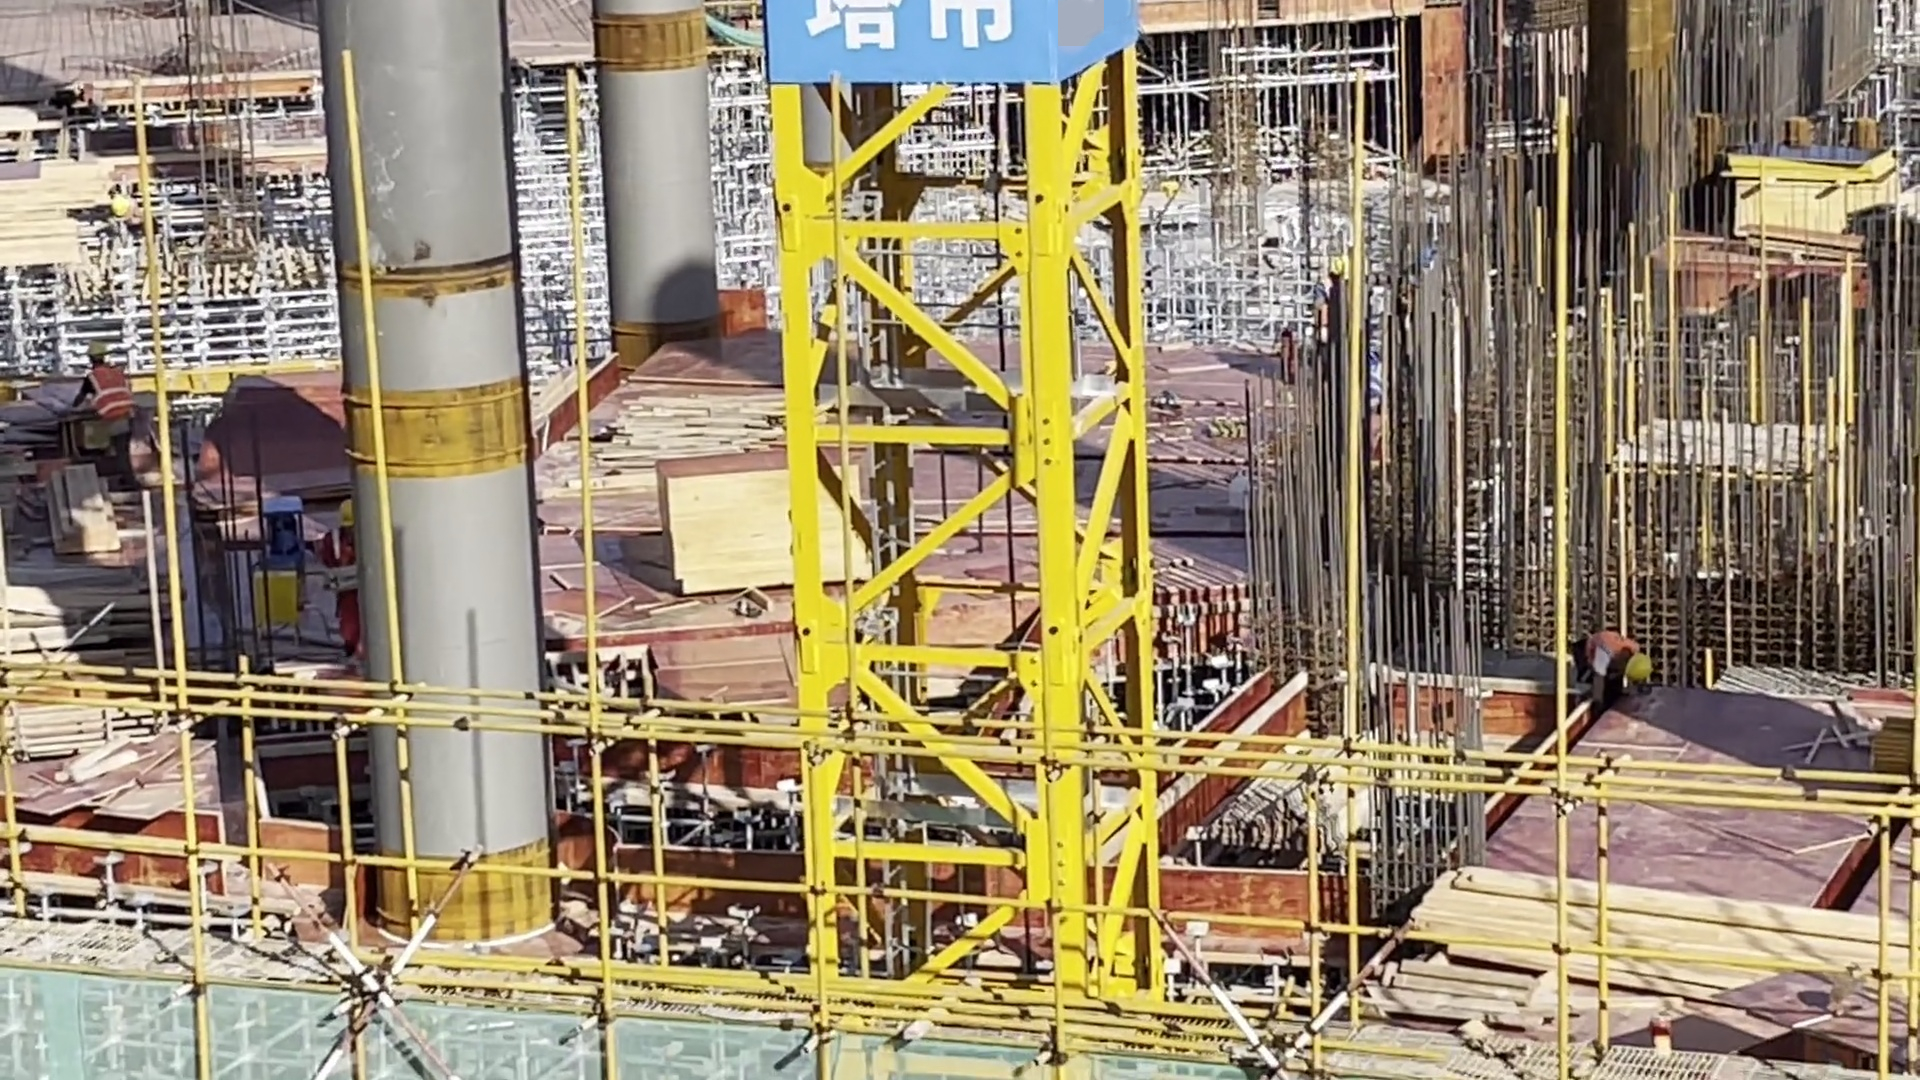board: (658, 452, 873, 599), (1723, 132, 1902, 238)
helmet: (1626, 645, 1655, 687), (111, 194, 135, 224), (87, 340, 108, 371), (340, 500, 360, 527)
person: (66, 334, 137, 501), (318, 495, 373, 669), (1577, 624, 1669, 723), (108, 188, 161, 252)
slogan: (777, 1, 1083, 92)
vest: (1583, 629, 1642, 692), (323, 526, 366, 600), (88, 369, 135, 426)
wood: (1422, 860, 1920, 1018), (8, 553, 193, 664), (48, 469, 122, 553)
